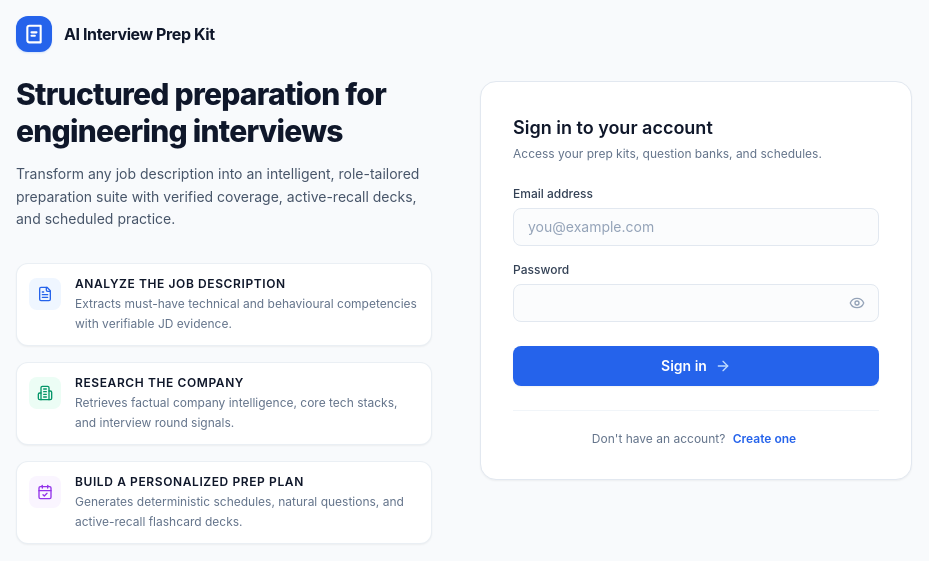
Frontend: Authentication › 5. shows error message on failed login
The width and height of the screenshot is (929, 561).
In the field labelled "Email address": (696, 226) left=513, top=208, right=879, bottom=246, type "alice@example.com"
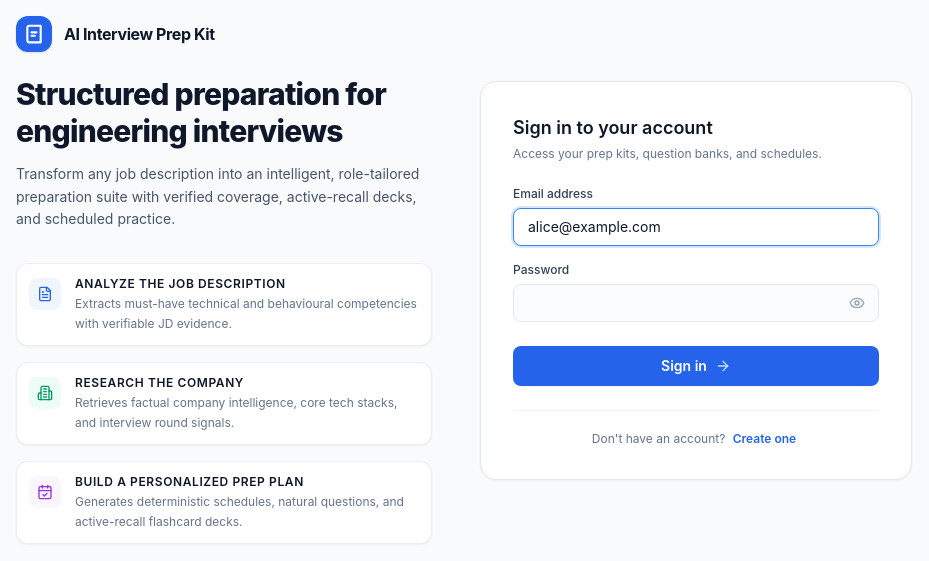
In the password field labelled "Password": (696, 302) left=513, top=284, right=879, bottom=322, type "WrongPass123!"
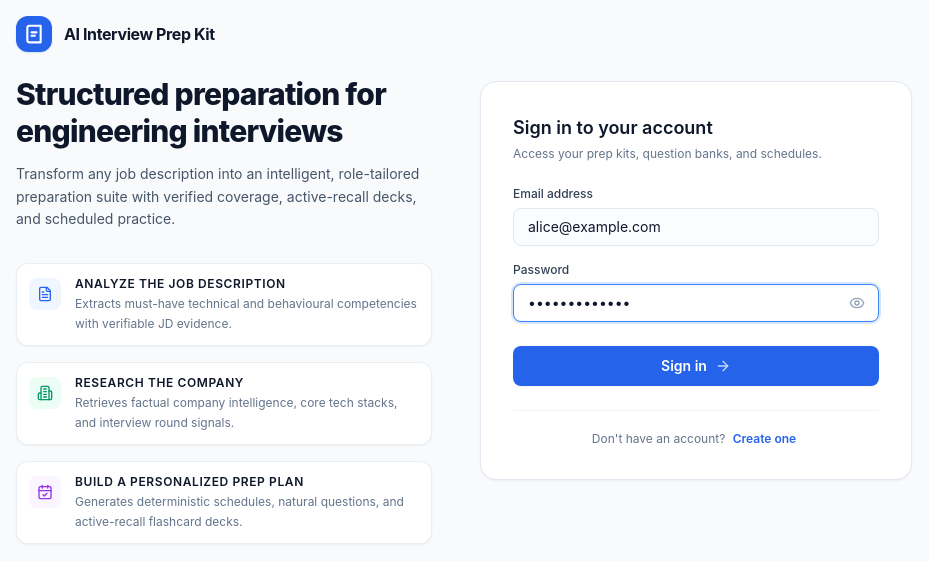
Click the button "Sign in": (696, 366) left=513, top=346, right=879, bottom=386
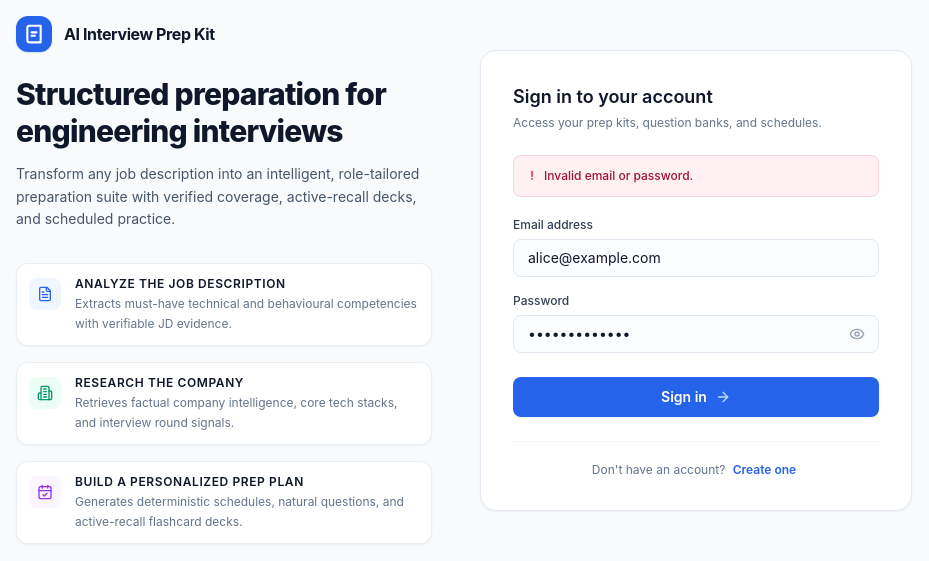
Expected: the message shows "Invalid email or password.", left=544, top=168, right=693, bottom=182
